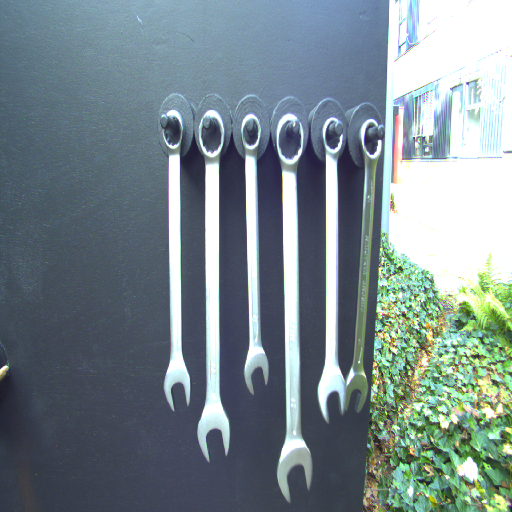bottom: (274, 437, 314, 503), (194, 410, 235, 466), (314, 362, 346, 425), (160, 361, 192, 411), (243, 348, 271, 397), (342, 370, 369, 417)
top: (274, 111, 307, 171), (196, 108, 228, 162), (157, 107, 187, 156), (237, 111, 265, 156), (358, 116, 385, 161), (319, 116, 345, 159)
